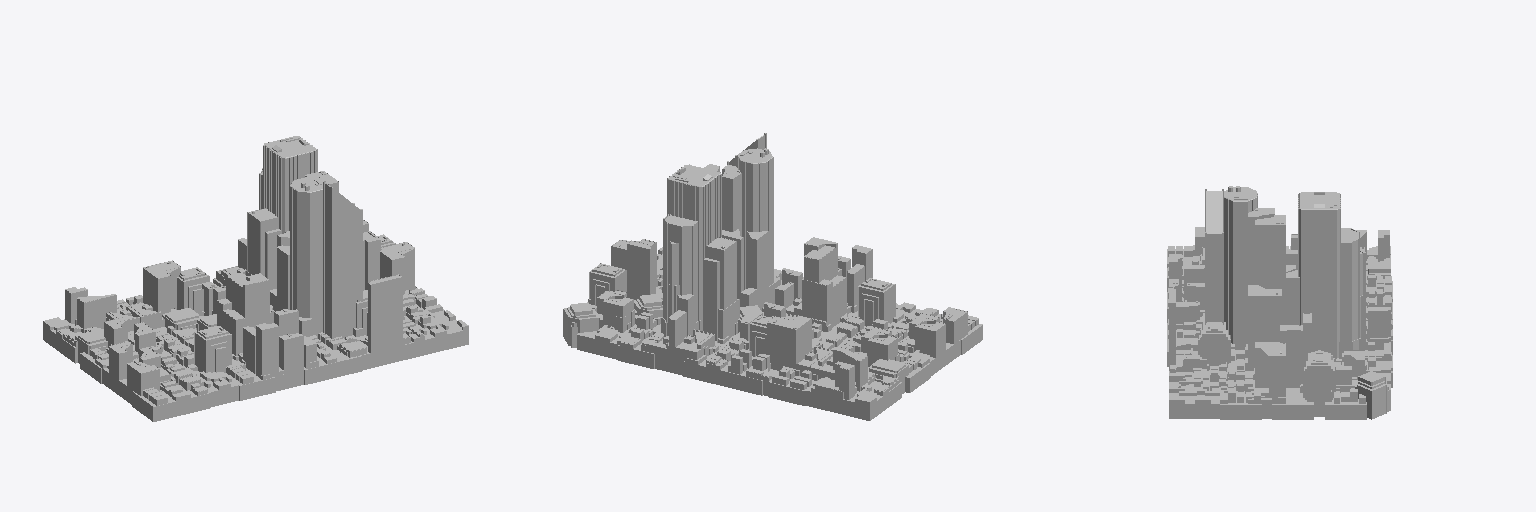
The model's file is building02.obj.
3 renders of one model, left to right at view 1: azimuth 30°, elevation 25°; view 2: azimuth 150°, elevation 25°; view 3: azimuth 270°, elevation 25°, orthographic.
Visible parts, largest first — view 1: Mograph_City_Rig.13; view 2: Mograph_City_Rig.13; view 3: Mograph_City_Rig.13.
Part boxes in pixels (left/top/right/bottom): Mograph_City_Rig.13: left=43, top=136, right=468, bottom=421; Mograph_City_Rig.13: left=563, top=133, right=982, bottom=420; Mograph_City_Rig.13: left=1167, top=186, right=1392, bottom=419.
Size of the model in its own units: 5246 by 2720 by 3225.